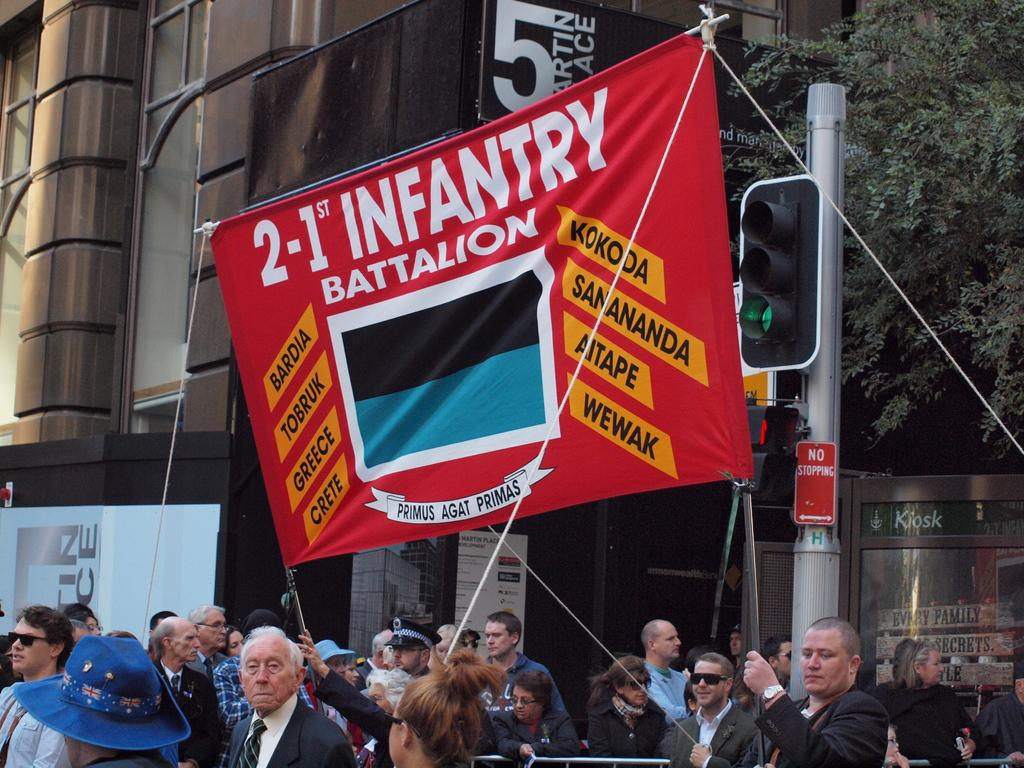Hat: (9, 635, 189, 753), (382, 617, 444, 648), (304, 638, 350, 675)
